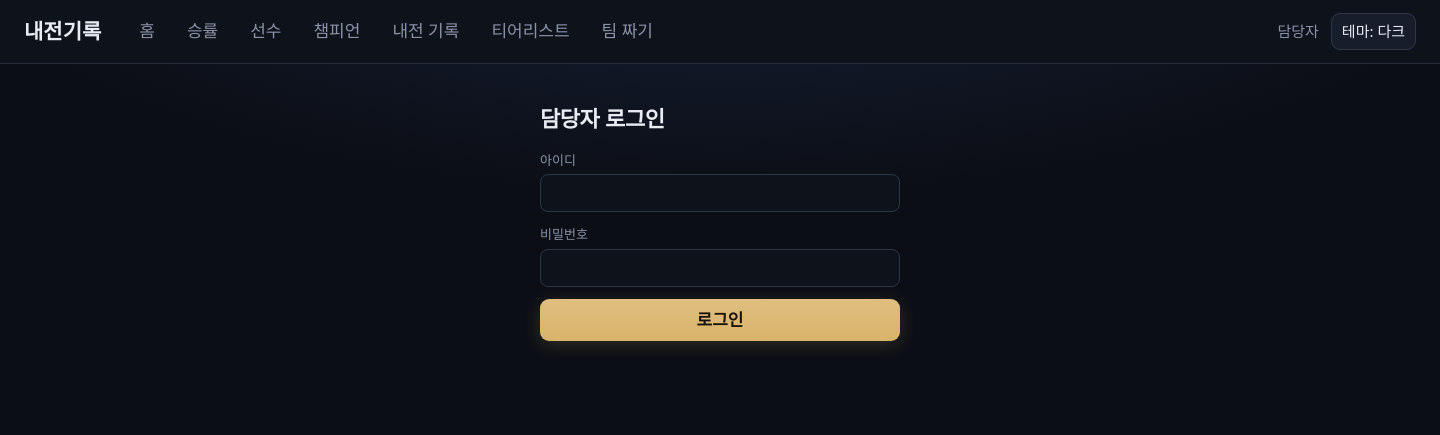
담당자 인증 흐름 › 로그인에 실패하면 사용자 없음/비밀번호 틀림을 구분하지 않는 같은 메시지를 보여 준다
This screenshot has width=1440, height=435.
Type "admin" into the field labelled "아이디" at (720, 193), box [540,174,900,212]
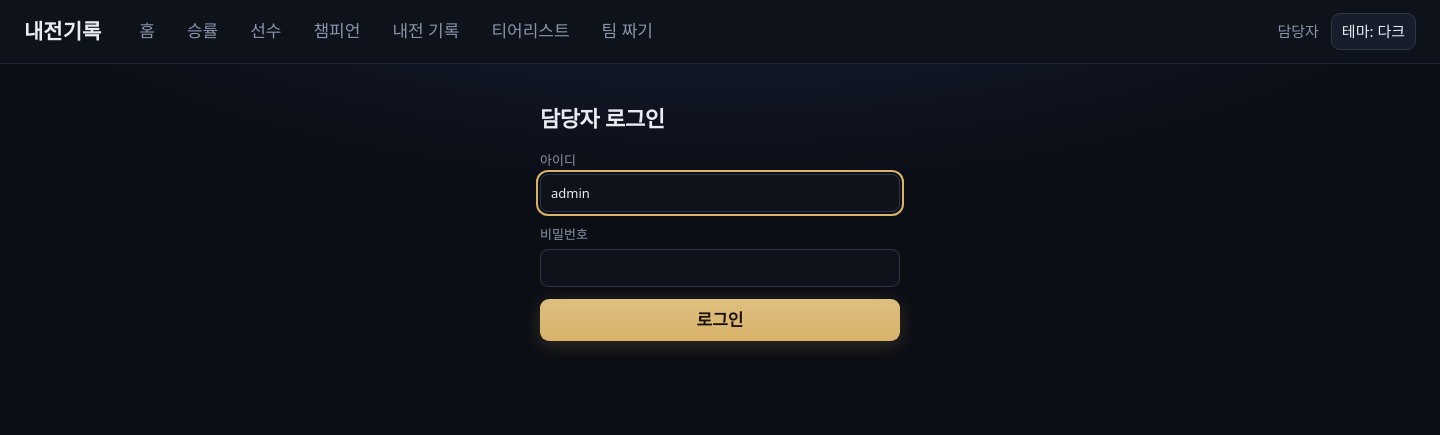
Type "wrong" into the password field labelled "비밀번호" at (720, 268), box [540,248,900,287]
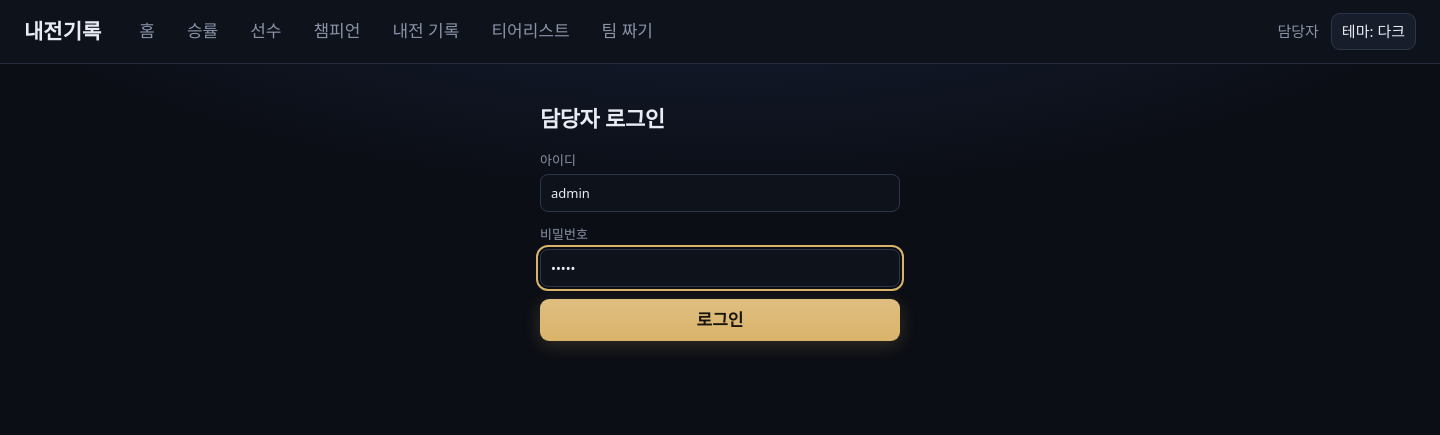
Click the button "로그인" at (720, 320), box [540,299,900,341]
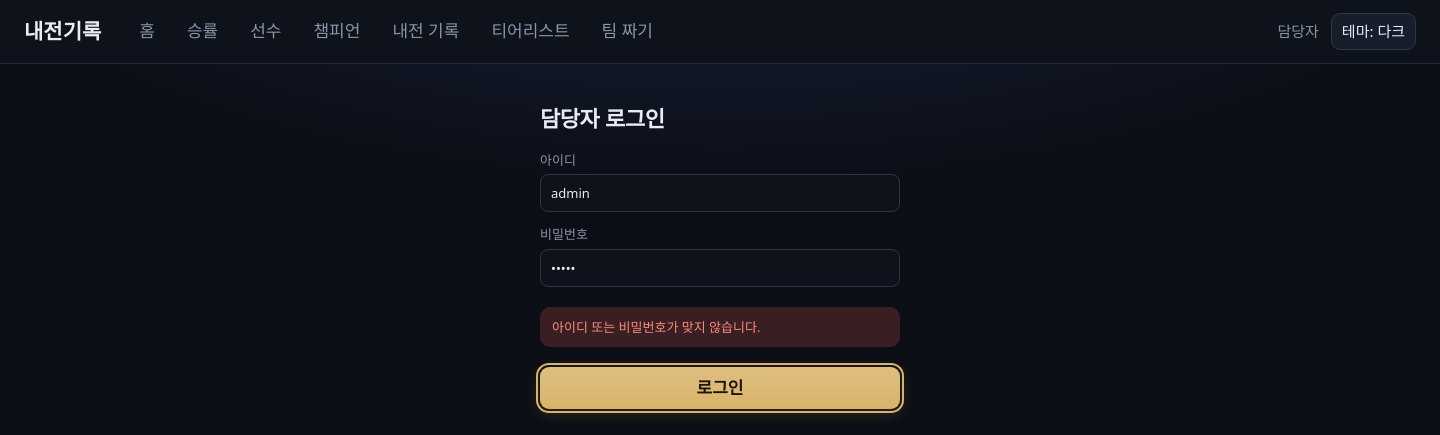
Result: the message shows "아이디 또는 비밀번호가 맞지 않습니다" at [552,318,760,336]
